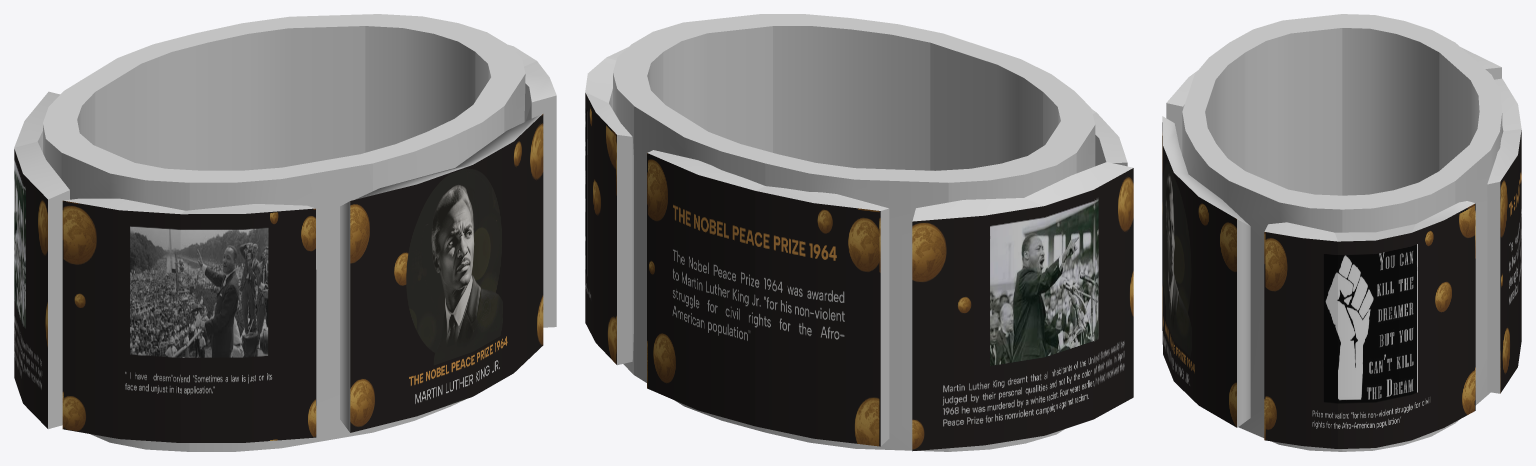
File: MLK1.fbx
3 views of the same model, side by side, from view 1: azimuth 30°, elevation 25°; view 2: azimuth 150°, elevation 25°; view 3: azimuth 270°, elevation 25° (orthographic). The views are drawn at different scales.
Visible parts, largest first — view 1: polySurface24, polySurface27, polySurface25, polySurface29; view 2: polySurface24, polySurface26, polySurface29, polySurface28; view 3: polySurface24, polySurface28, polySurface25, polySurface26.
Part boxes in pixels (x1,y1,x2,y2): polySurface24: (14,14,556,451); polySurface27: (62,200,316,442); polySurface25: (350,114,543,432); polySurface29: (14,149,47,428); polySurface24: (585,14,1133,451); polySurface26: (647,153,880,446); polySurface29: (912,168,1133,451); polySurface28: (585,93,616,364); polySurface24: (1162,14,1521,451); polySurface28: (1264,203,1475,448); polySurface25: (1162,122,1236,427); polySurface26: (1500,130,1521,393).
Bounding box in the file's own units: 8.15 × 4.12 × 5.54.
6 materials, 5 textured.
